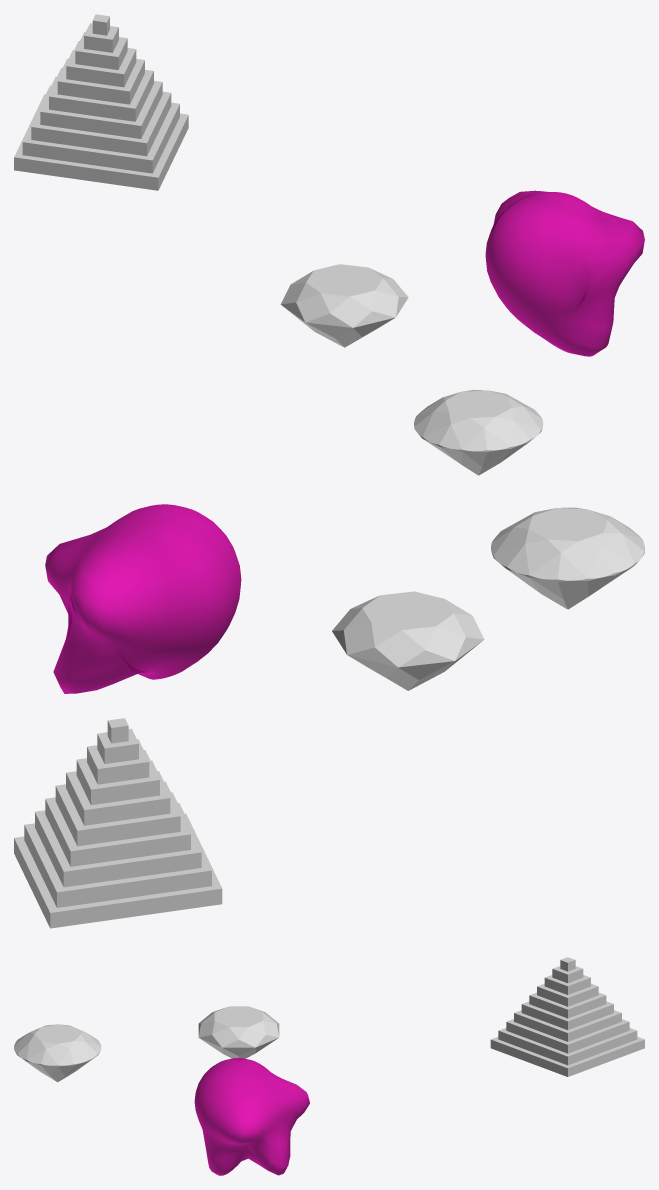
The picture shows the model from 3 angles, top to bottom: view 1: azimuth 30°, elevation 25°; view 2: azimuth 150°, elevation 25°; view 3: azimuth 270°, elevation 25°; orthographic projection. The views are drawn at different scales.
Parts seen in each view (by area): view 1: Pyramid, Kirby, gemaR, DIAMON; view 2: Kirby, Pyramid, gemaR, DIAMON; view 3: Pyramid, Kirby, gemaR, DIAMON.
Part boxes in pixels (x1,y1,x2,y2): Pyramid: (14,14,188,190); Kirby: (485,190,644,356); gemaR: (414,390,543,475); DIAMON: (280,264,408,347); Kirby: (45,504,241,693); Pyramid: (14,718,222,928); gemaR: (491,507,644,609); DIAMON: (332,591,484,690); Pyramid: (490,957,644,1076); Kirby: (194,1058,309,1175); gemaR: (14,1024,101,1082); DIAMON: (198,1006,279,1058).
Bounding box in the file's own units: 6.93 × 3.49 × 14.44.
